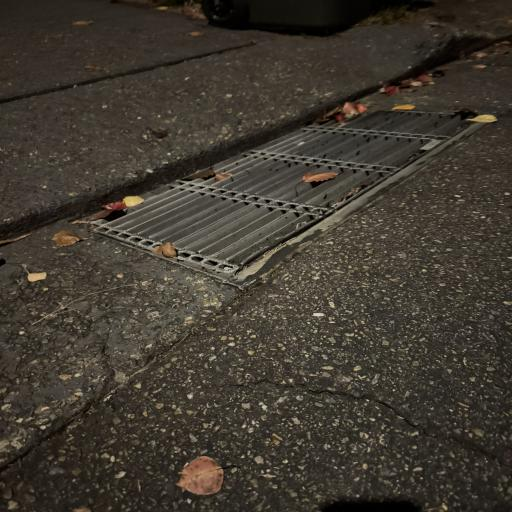debris: (379, 67, 448, 96), (74, 196, 146, 223), (178, 456, 223, 495), (314, 102, 367, 124), (52, 230, 85, 247), (302, 171, 339, 184), (463, 109, 496, 123), (151, 242, 177, 259), (180, 4, 205, 20), (200, 171, 233, 182), (0, 234, 29, 245), (491, 41, 512, 53), (26, 270, 47, 282), (392, 104, 415, 111), (467, 51, 487, 58), (72, 20, 93, 26), (85, 66, 103, 72), (154, 130, 167, 138), (187, 30, 202, 36), (472, 64, 487, 69)
gutter: (91, 111, 467, 281)
step: (0, 0, 512, 236)
